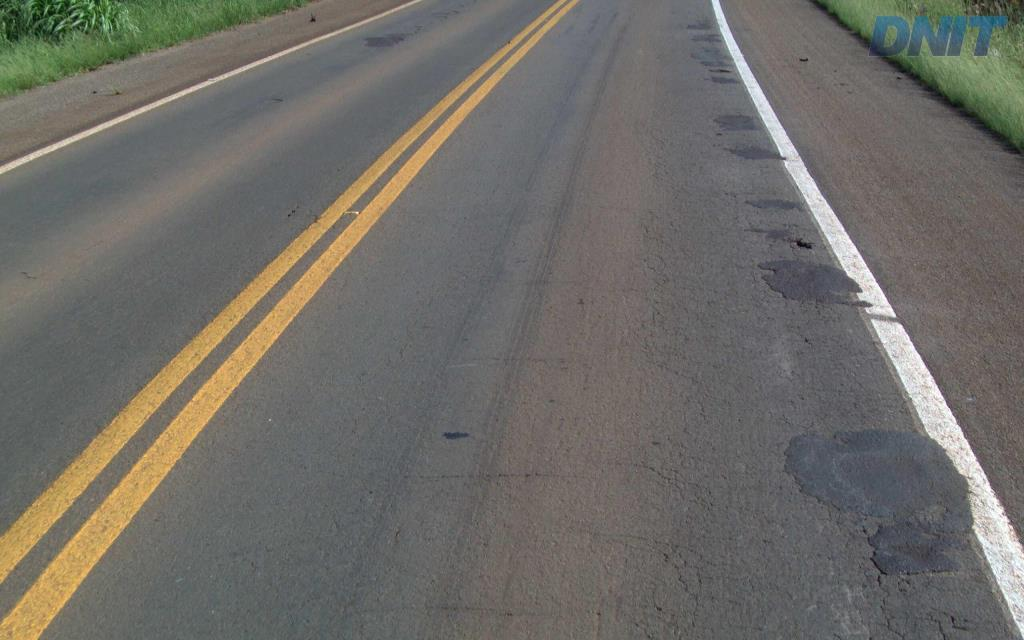pothole: (782, 232, 819, 254), (708, 63, 732, 74)
